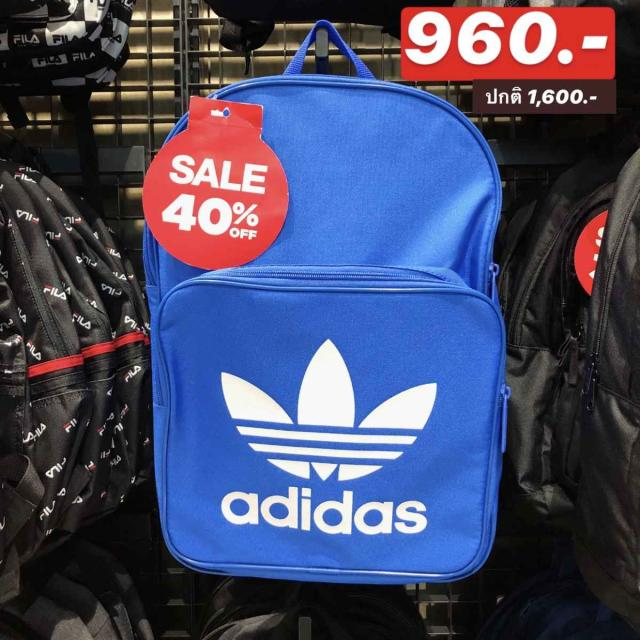Handbag: (148, 73, 508, 587)
